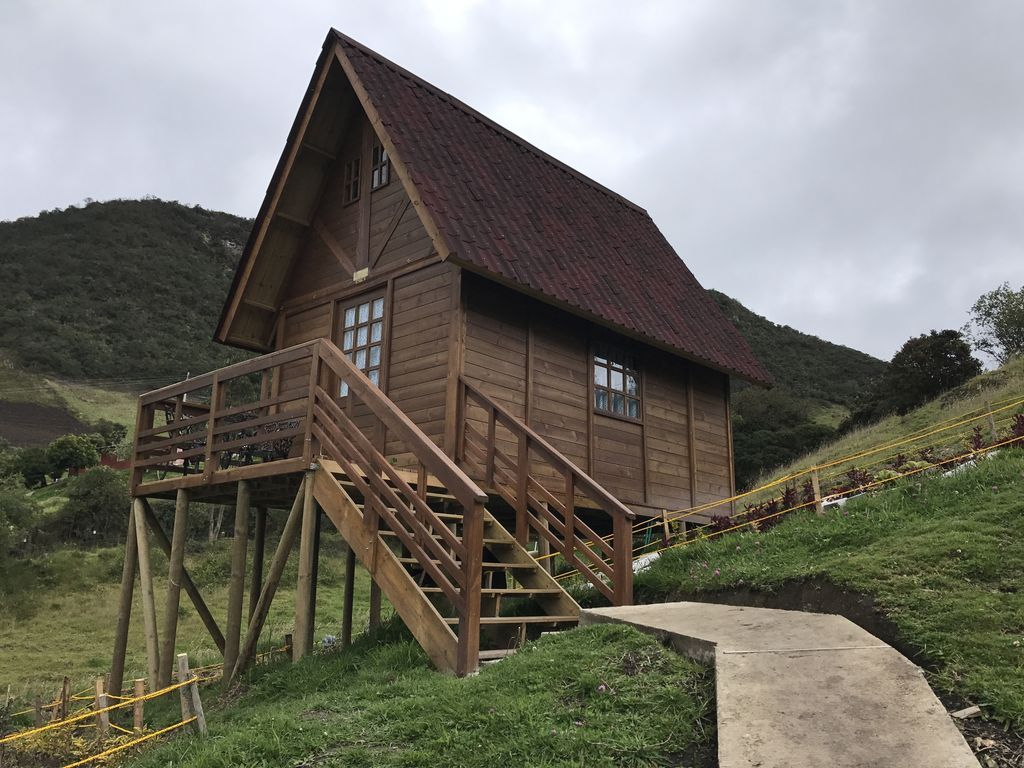House: (134, 23, 737, 646)
